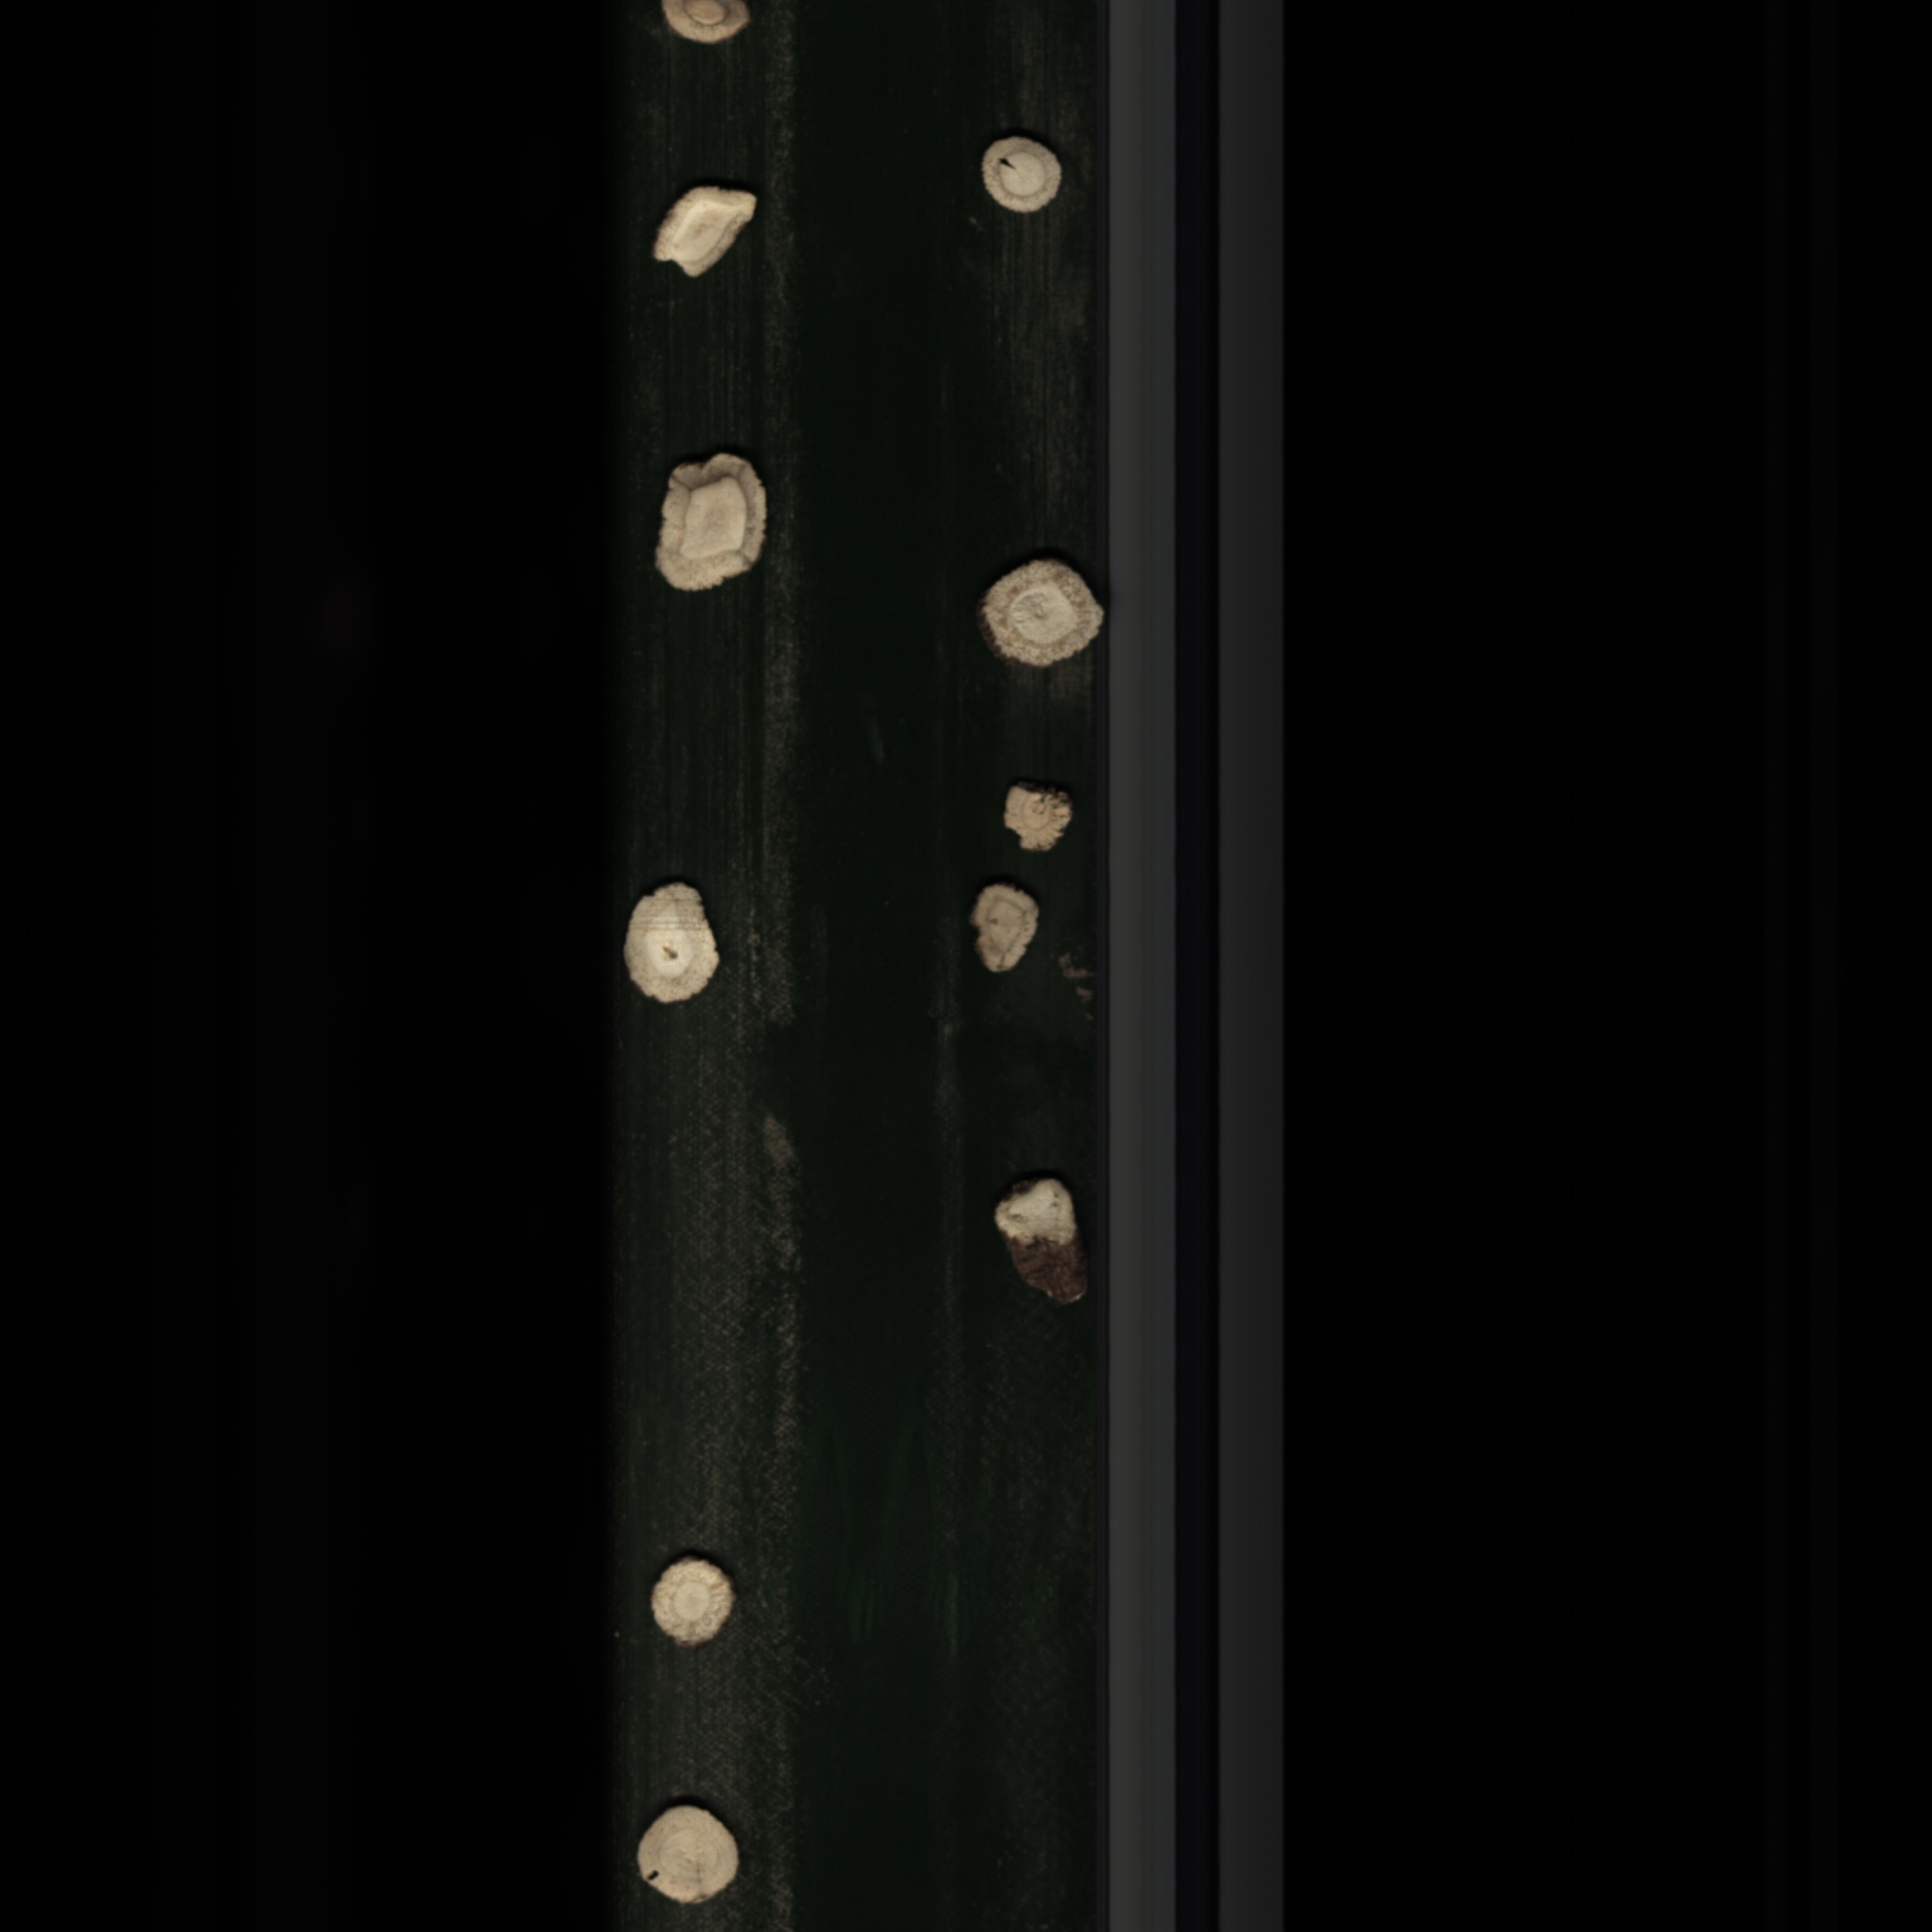bark: (989, 1169, 1095, 1318)
distortion: (649, 172, 766, 287), (968, 879, 1049, 1000), (996, 775, 1077, 863)
hole: (623, 1798, 745, 1914), (962, 127, 1065, 223)
